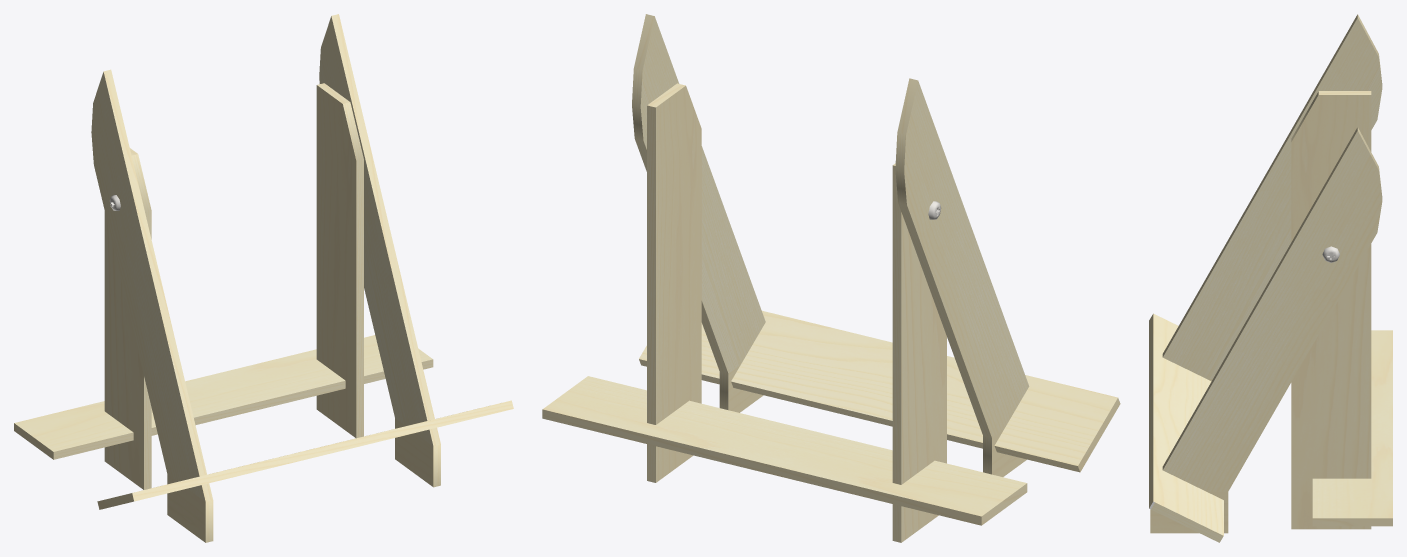
The model's file is tilt.fbx.
3 renders of one model, left to right at view 1: azimuth 30°, elevation 25°; view 2: azimuth 150°, elevation 25°; view 3: azimuth 270°, elevation 25°, orthographic. The views are drawn at different scales.
Visible parts, largest first — view 1: mesh2; view 2: mesh2; view 3: mesh2.
Boxes of the visible parts, x1,y1,x2,y2 form: mesh2: (14,14,513,542); mesh2: (542,14,1120,542); mesh2: (1149,14,1392,542).
Size of the model in its own units: 50 by 49.94 by 27.4.
Materials: 1 (1 with a texture image).
